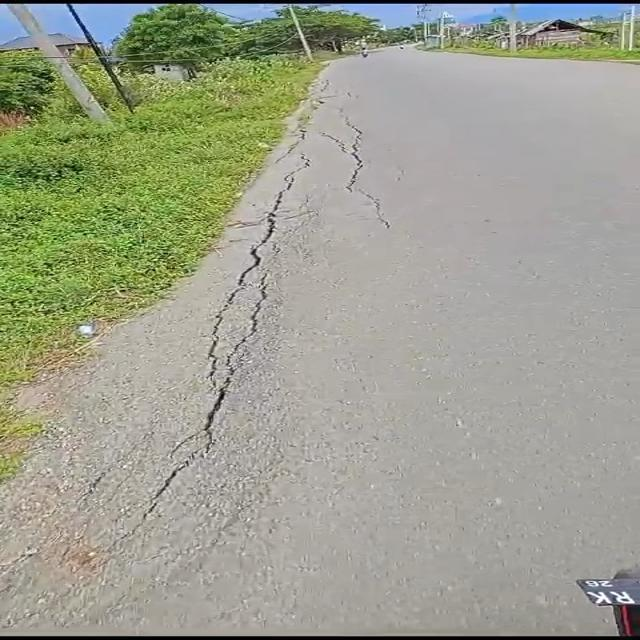Pinggir: (93, 100, 344, 465)
